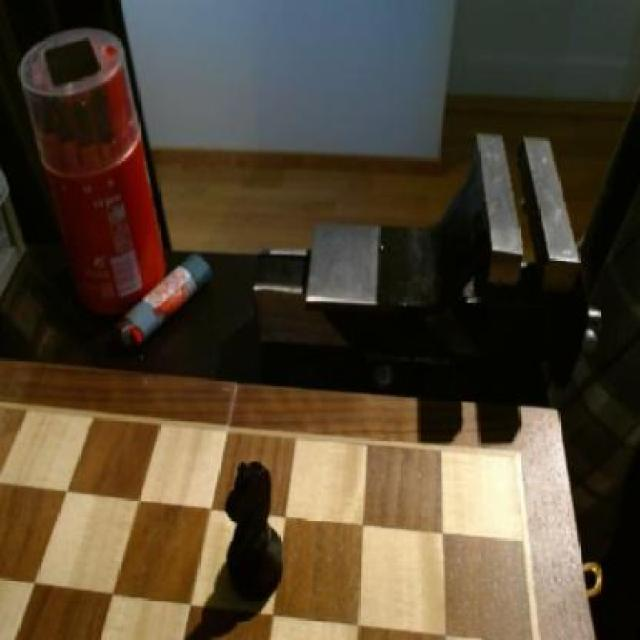black-king: (218, 454, 294, 598)
